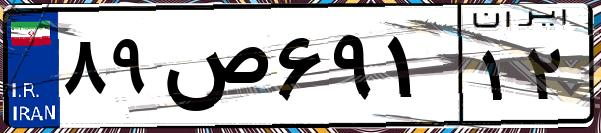1: (385, 28, 445, 110), (475, 38, 525, 113)
2: (525, 38, 570, 115)
6: (270, 28, 330, 110)
8: (57, 26, 110, 100)
9: (330, 28, 385, 110), (110, 28, 158, 98)
ص: (158, 20, 270, 120)
